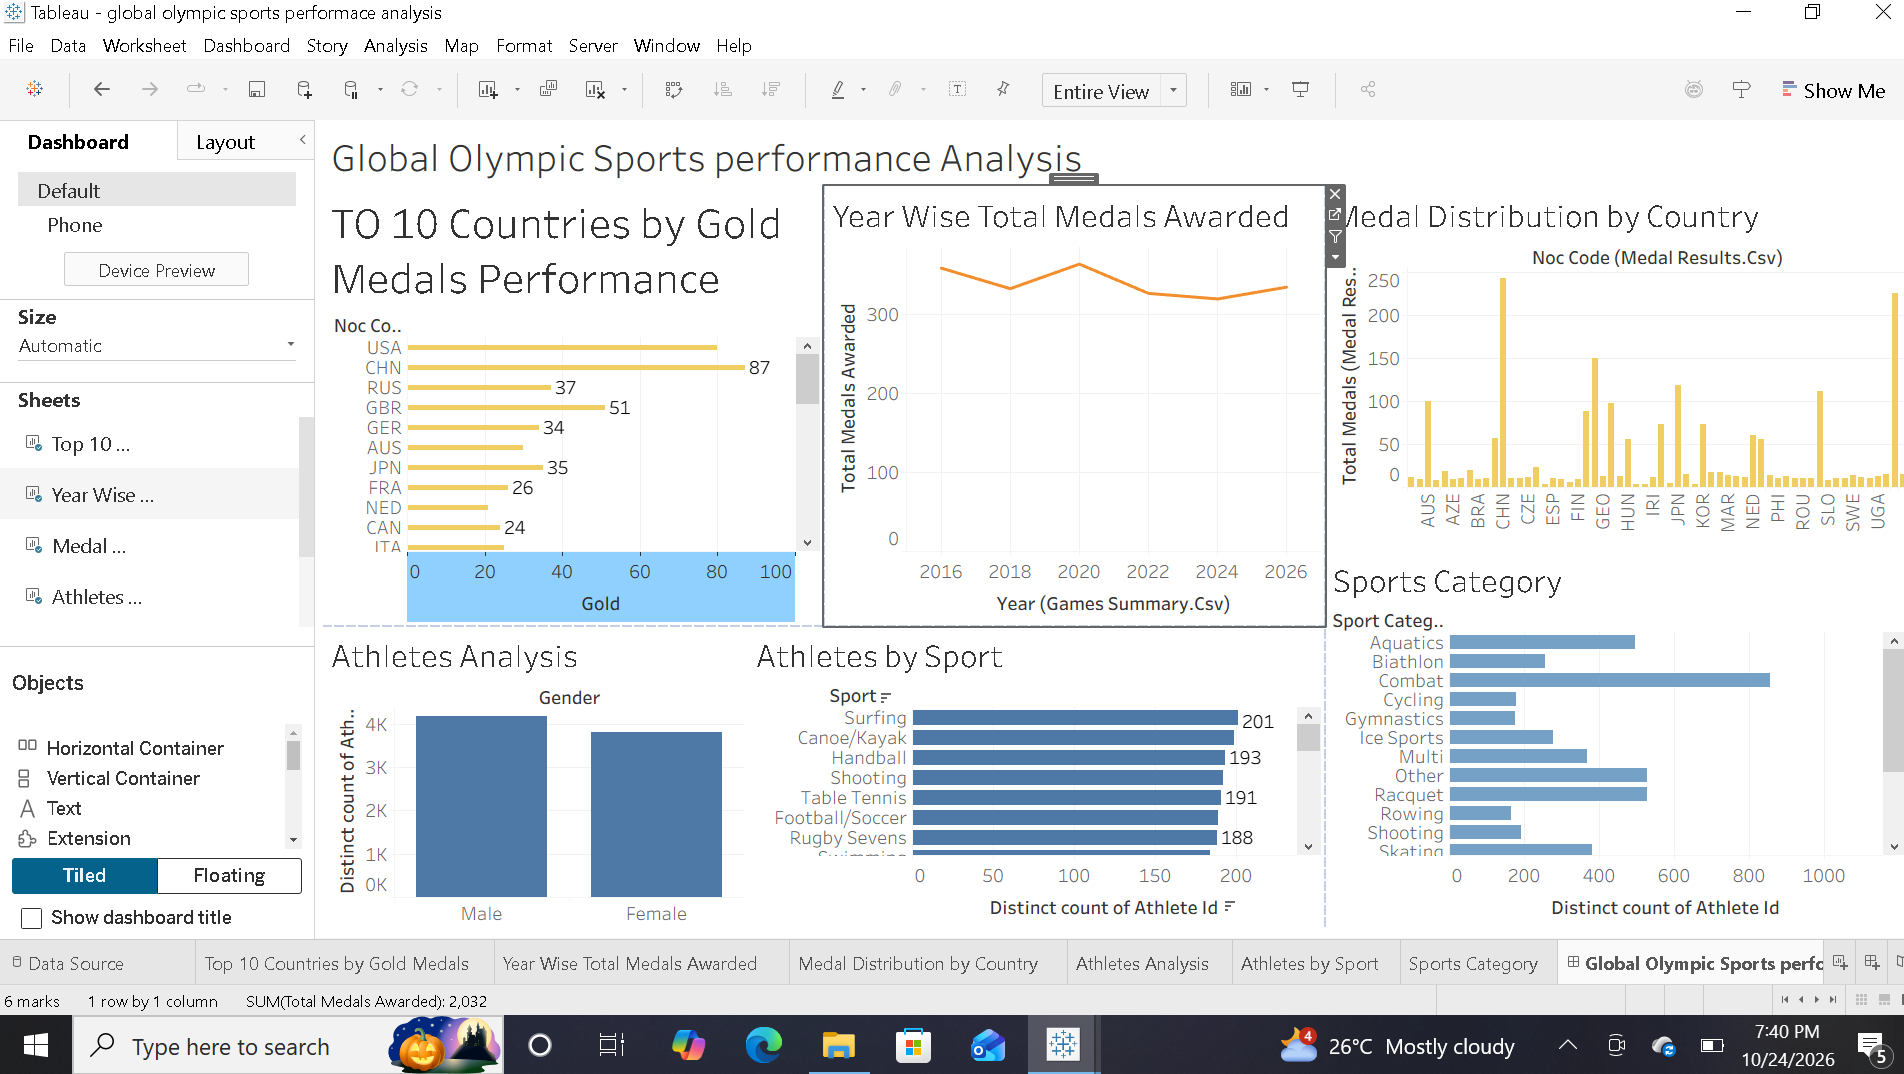

The page's visual inventory and layout, read from the dashboard file:
{"tool":"tableau","page":{"name":"Global Olympic Sports performance Analysis","canvas":[1000,1000],"units":"permille","ordinal":0},"visuals":[{"type":"title","box":[5,9.8,990,70.9]},{"type":"worksheet","title":"Top 10 Countries by Gold Medals","mark":"Bar","rows":["noc_code (medal_results.csv)"],"cols":["gold"],"box":[5,80.7,312.4,537.9]},{"type":"worksheet","title":"Year Wise Total Medals Awarded","mark":"Automatic","rows":["total_medals_awarded"],"cols":["year (games_summary.csv)"],"box":[317.4,80.7,312.4,537.9]},{"type":"worksheet","title":"Medal Distribution by Country","mark":"Bar","rows":["total_medals (medal_results.csv)"],"cols":["noc_code (medal_results.csv)"],"box":[629.7,80.7,365.3,446.2]},{"type":"worksheet","title":"Sports Category","mark":"Automatic","rows":["sport_category"],"cols":["athlete_id"],"box":[629.7,526.9,365.3,463.3]},{"type":"worksheet","title":"Athletes Analysis","mark":"Bar","rows":["athlete_id"],"cols":["gender"],"box":[5,618.6,264.9,371.6]},{"type":"worksheet","title":"Athletes by Sport","mark":"Automatic","rows":["sport"],"cols":["athlete_id"],"box":[269.9,618.6,359.9,371.6]}]}

Visuals, with their boxes on the dashboard's canvas, which has no fixed pixel size, in thousandths of its width and height (x1, y1, x2, y2). These are canvas units, not pixel positions in the 1904x1074 screenshot, which may show the page scaled, cropped or inside an application window:
title: Rect(5, 10, 995, 81)
"Top 10 Countries by Gold Medals" worksheet (Bar marks): Rect(5, 81, 317, 619)
"Year Wise Total Medals Awarded" worksheet: Rect(317, 81, 630, 619)
"Medal Distribution by Country" worksheet (Bar marks): Rect(630, 81, 995, 527)
"Sports Category" worksheet: Rect(630, 527, 995, 990)
"Athletes Analysis" worksheet (Bar marks): Rect(5, 619, 270, 990)
"Athletes by Sport" worksheet: Rect(270, 619, 630, 990)
